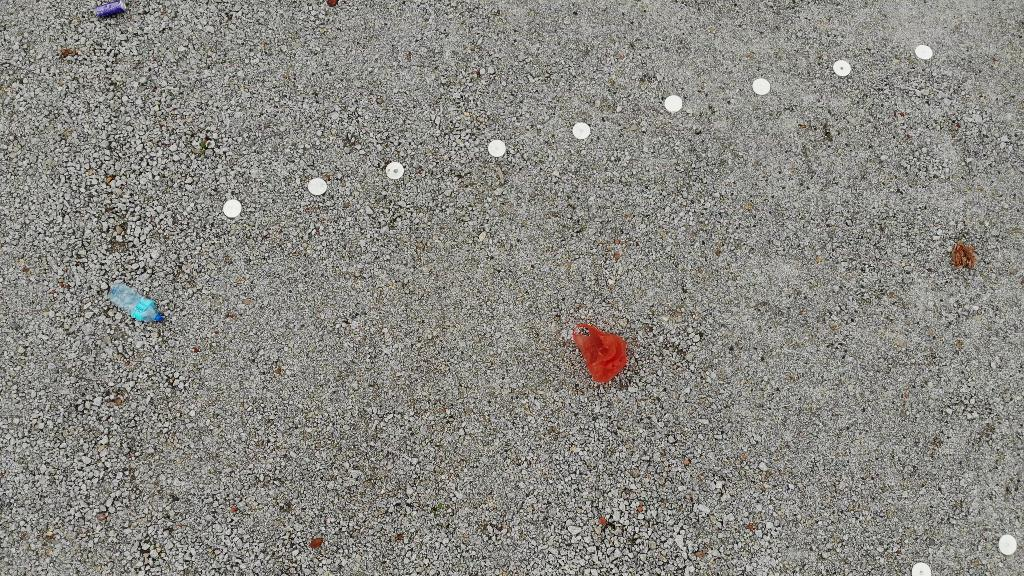garbage: (572, 320, 631, 387), (108, 279, 169, 328)
